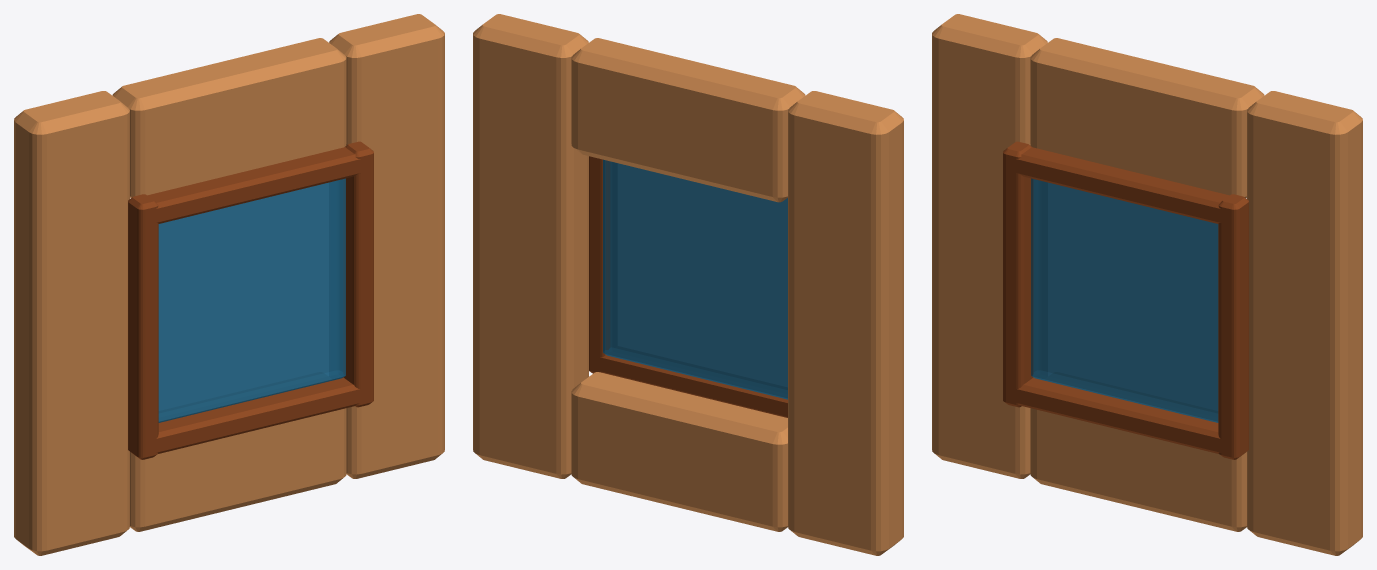
The model's file is Wall_Window.obj.
3 renders of one model, left to right at view 1: azimuth 30°, elevation 25°; view 2: azimuth 150°, elevation 25°; view 3: azimuth 330°, elevation 25°, orthographic.
Visible parts, largest first — view 1: Wall_Window_L, Wall_Window_Glass, Wall_Window_R, Wall_Window_Frame, Wall_Window_Top, Wall_Window_Bottom; view 2: Wall_Window_L, Wall_Window_R, Wall_Window_Glass, Wall_Window_Top, Wall_Window_Bottom, Wall_Window_Frame; view 3: Wall_Window_R, Wall_Window_Glass, Wall_Window_L, Wall_Window_Frame, Wall_Window_Top, Wall_Window_Bottom.
Boxes of the visible parts, left/top/right/bottom form: Wall_Window_L: left=14, top=91, right=129, bottom=555; Wall_Window_Glass: left=158, top=178, right=345, bottom=422; Wall_Window_R: left=329, top=14, right=444, bottom=478; Wall_Window_Frame: left=128, top=141, right=373, bottom=459; Wall_Window_Top: left=112, top=38, right=346, bottom=197; Wall_Window_Bottom: left=130, top=408, right=346, bottom=531; Wall_Window_L: left=788, top=91, right=903, bottom=555; Wall_Window_R: left=473, top=14, right=588, bottom=478; Wall_Window_Glass: left=603, top=159, right=787, bottom=399; Wall_Window_Top: left=571, top=38, right=805, bottom=202; Wall_Window_Bottom: left=571, top=372, right=787, bottom=531; Wall_Window_Frame: left=589, top=156, right=787, bottom=417; Wall_Window_R: left=1247, top=91, right=1362, bottom=555; Wall_Window_Glass: left=1031, top=178, right=1218, bottom=422; Wall_Window_L: left=932, top=14, right=1047, bottom=478; Wall_Window_Frame: left=1003, top=141, right=1248, bottom=459; Wall_Window_Top: left=1030, top=38, right=1264, bottom=197; Wall_Window_Bottom: left=1030, top=408, right=1246, bottom=531.
Bounding box in the file's own units: 2 × 2 × 0.35.
